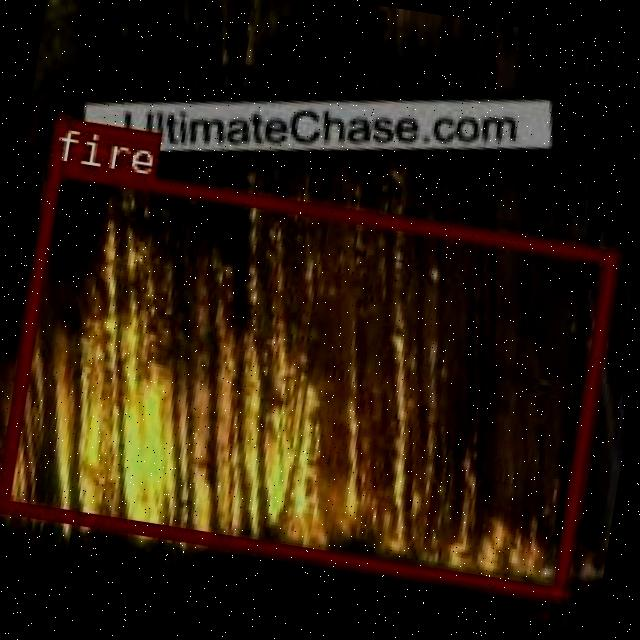fire: (0, 161, 615, 597)
